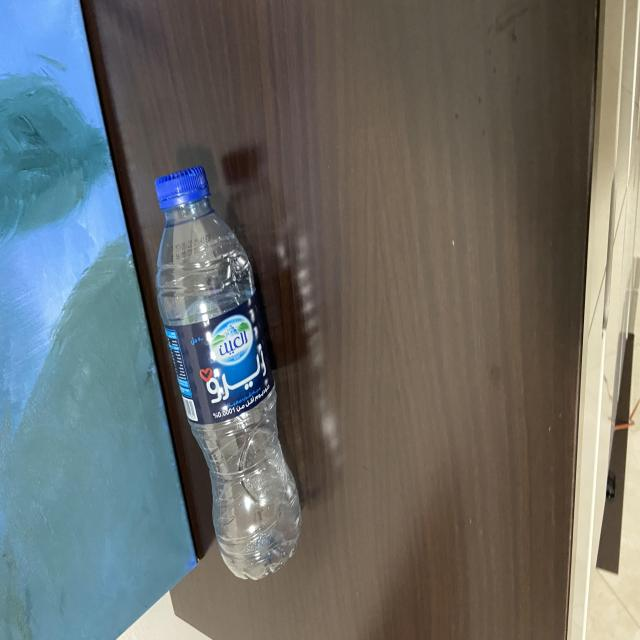plastic: (148, 157, 313, 582)
